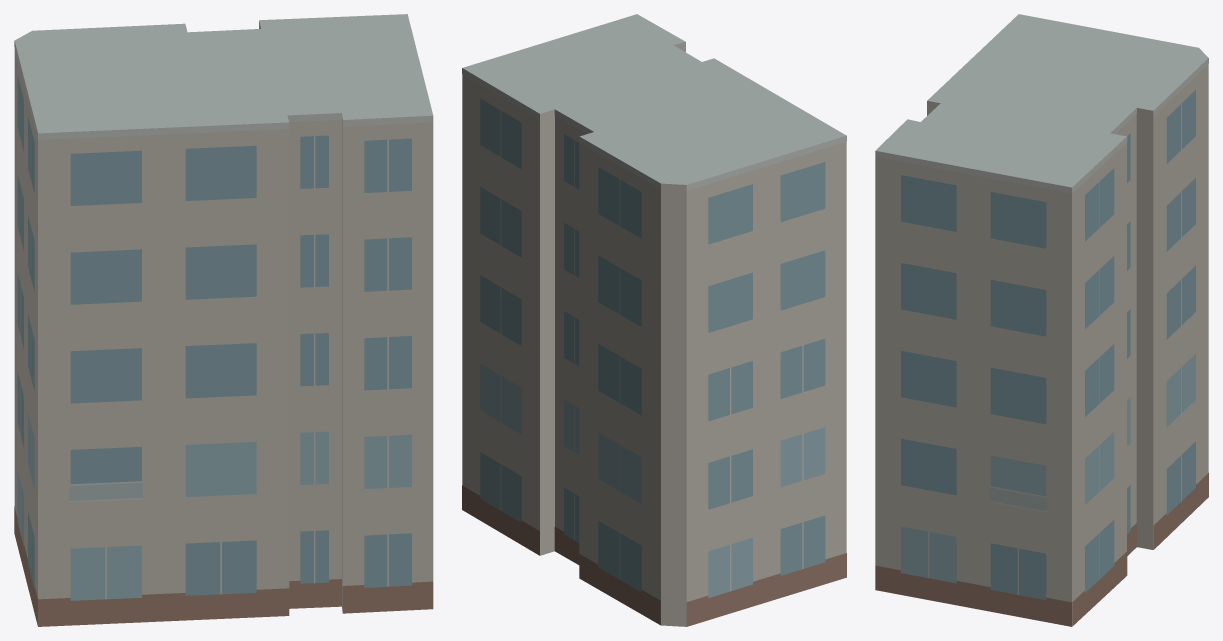
File: survey-upis-32900746.glb
3 renders of one model, left to right at view 1: azimuth 30°, elevation 25°; view 2: azimuth 150°, elevation 25°; view 3: azimuth 270°, elevation 25°, orthographic. The views are drawn at different scales.
Parts seen in each view (by area): view 1: survey-upis-32900746.tmp; view 2: survey-upis-32900746.tmp; view 3: survey-upis-32900746.tmp.
Boxes of the visible parts, bbox=[...] form: survey-upis-32900746.tmp: bbox=[14, 14, 433, 626]; survey-upis-32900746.tmp: bbox=[462, 14, 846, 626]; survey-upis-32900746.tmp: bbox=[875, 14, 1208, 626].
Size of the model in its own units: 15.17 by 17.9 by 12.32.
